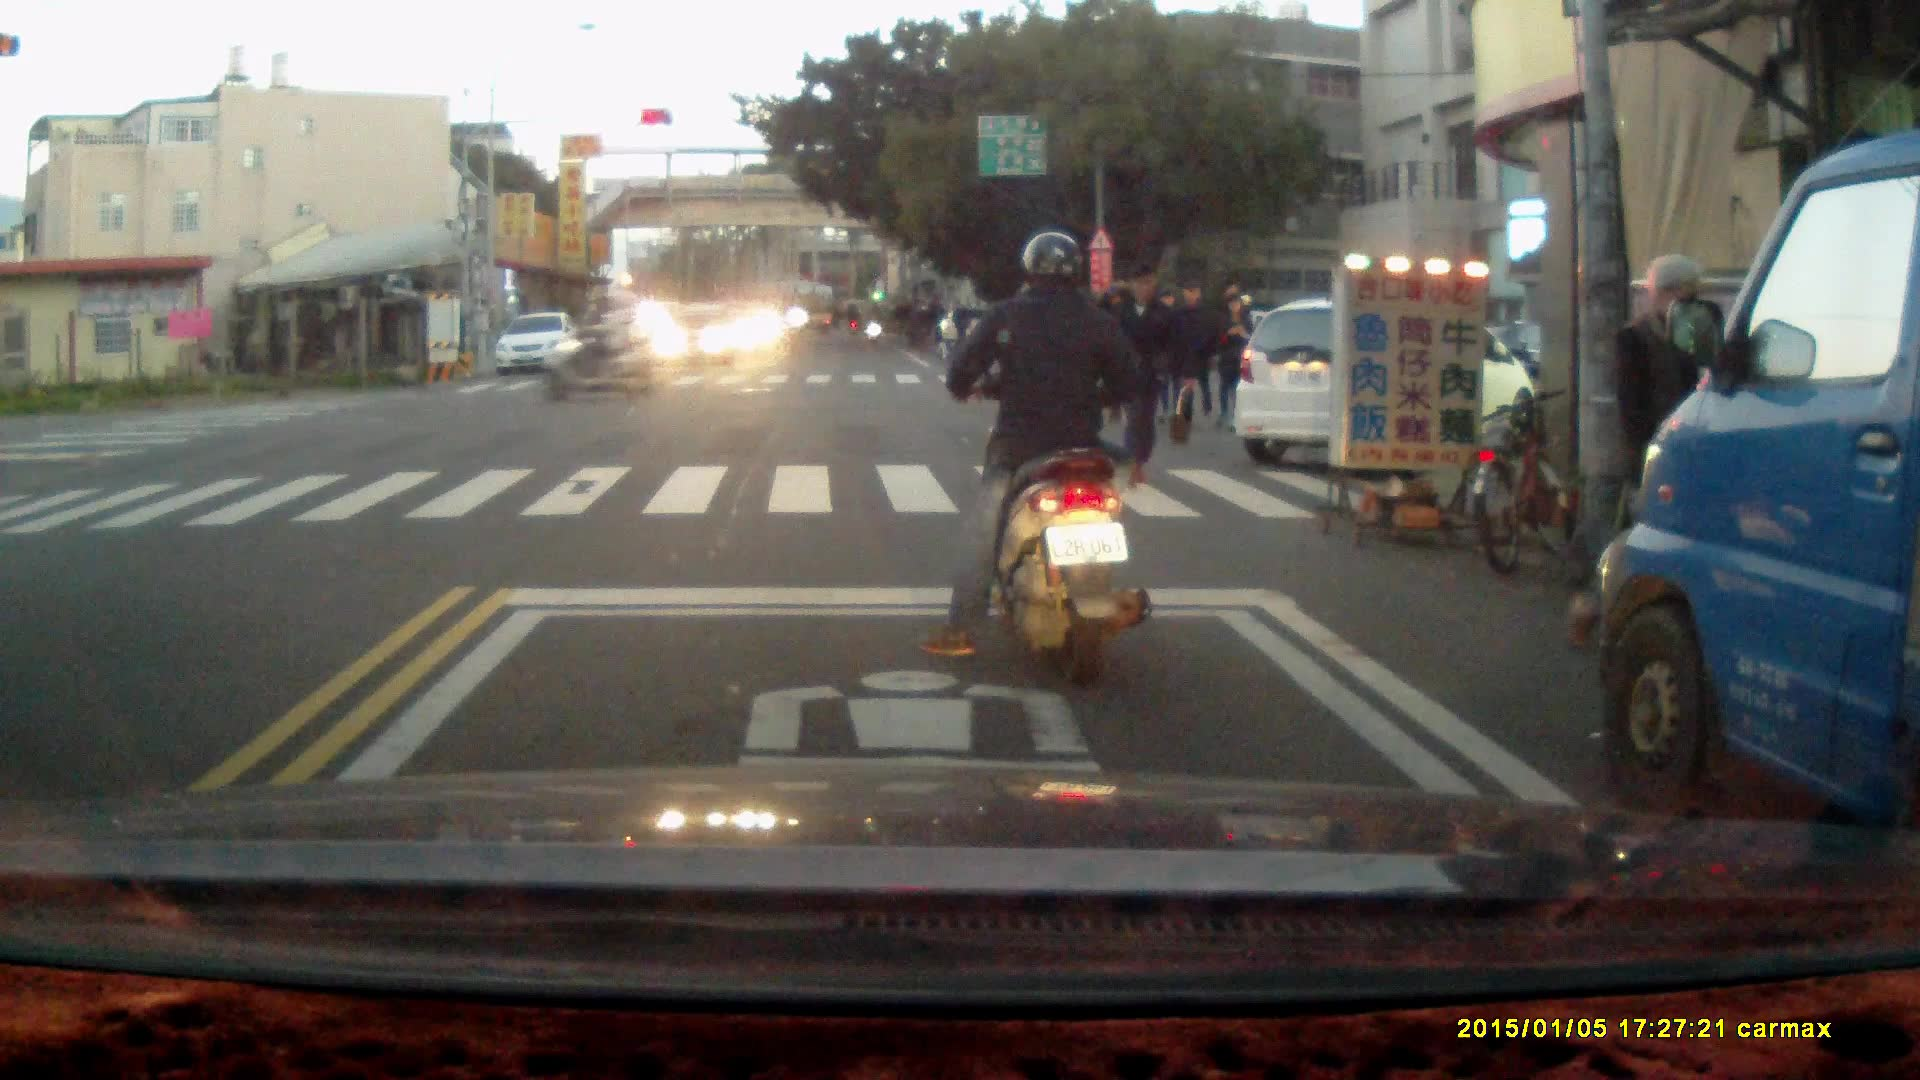pedestrian: (1567, 252, 1732, 642), (1101, 258, 1191, 491), (1213, 289, 1257, 429), (1147, 284, 1187, 426), (1176, 281, 1213, 419)
rider: (917, 227, 1151, 693), (546, 286, 661, 406), (861, 298, 887, 353)
vehicle: (1596, 120, 1920, 901), (1229, 303, 1533, 462), (656, 300, 744, 372), (493, 311, 584, 378)
